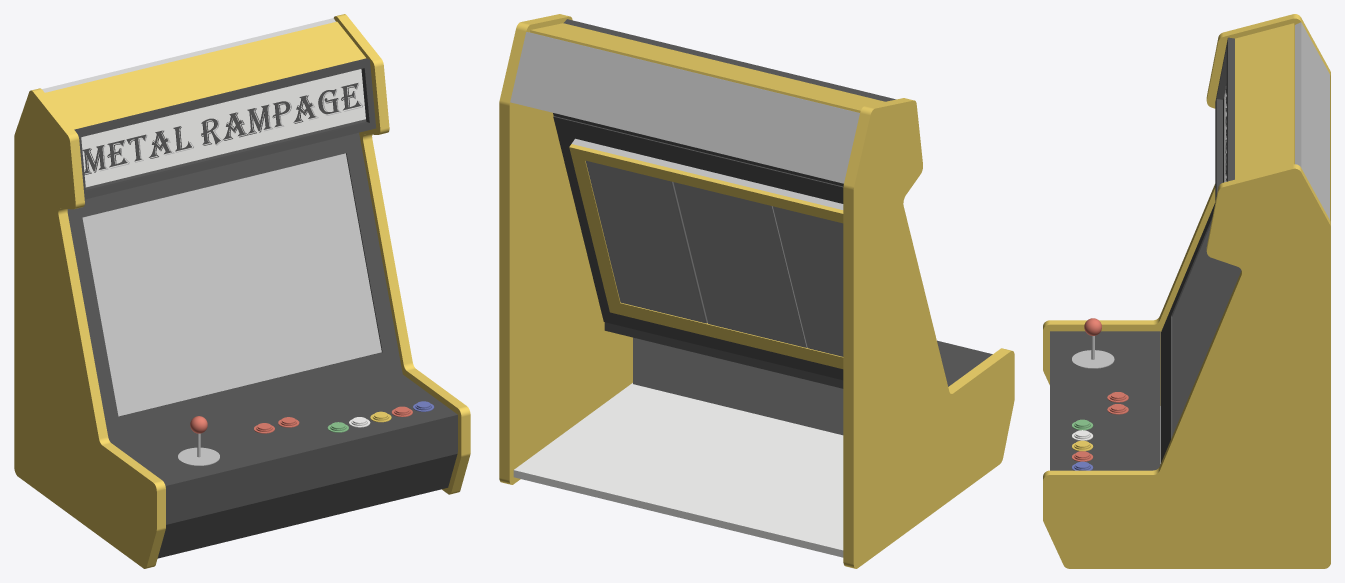
File: object-project-arcade.glb
The picture shows the model from 3 angles, left to right: view 1: azimuth 30°, elevation 25°; view 2: azimuth 150°, elevation 25°; view 3: azimuth 270°, elevation 25°; orthographic projection. The views are drawn at different scales.
Visible parts, largest first — view 1: Body5, Body1, Body4, Body3, Body13, Body12, Body7, Body8, Body2, Body11, Body43, Body10 (+1 smaller); view 2: Body1, Body44, Body2, Body43, Body16, Body14, Body41, Body4, Body17, Body15, Body13, Body3 (+3 smaller); view 3: Body2, Body3, Body13, Body5, Body43, Body1, Body11, Body4, Body45.
Part boxes in pixels (bbox=[...]): Body5: bbox=[82, 153, 381, 416]; Body1: bbox=[14, 88, 165, 568]; Body4: bbox=[67, 132, 402, 444]; Body3: bbox=[114, 375, 457, 489]; Body13: bbox=[45, 21, 365, 129]; Body12: bbox=[81, 69, 365, 187]; Body7: bbox=[166, 418, 457, 523]; Body8: bbox=[157, 452, 457, 558]; Body2: bbox=[334, 14, 470, 494]; Body11: bbox=[74, 58, 375, 199]; Body43: bbox=[42, 18, 335, 92]; Body10: bbox=[86, 119, 366, 189]; Body1: bbox=[843, 98, 1014, 568]; Body44: bbox=[513, 383, 843, 557]; Body2: bbox=[499, 14, 632, 484]; Body43: bbox=[510, 32, 859, 183]; Body16: bbox=[673, 182, 806, 347]; Body14: bbox=[586, 160, 707, 323]; Body41: bbox=[633, 337, 843, 435]; Body4: bbox=[553, 116, 843, 380]; Body17: bbox=[569, 144, 843, 368]; Body15: bbox=[772, 206, 843, 356]; Body13: bbox=[530, 23, 884, 112]; Body3: bbox=[604, 322, 992, 388]; Body2: bbox=[1043, 164, 1330, 568]; Body3: bbox=[1050, 331, 1160, 470]; Body13: bbox=[1235, 23, 1294, 179]; Body5: bbox=[1172, 224, 1241, 435]; Body43: bbox=[1295, 22, 1329, 219]; Body1: bbox=[1043, 14, 1330, 405]; Body11: bbox=[1215, 37, 1234, 201]; Body4: bbox=[1161, 203, 1215, 462]; Body45: bbox=[1072, 350, 1114, 368].
Size of the model in its own units: 1.9 by 2.29 by 1.49.
